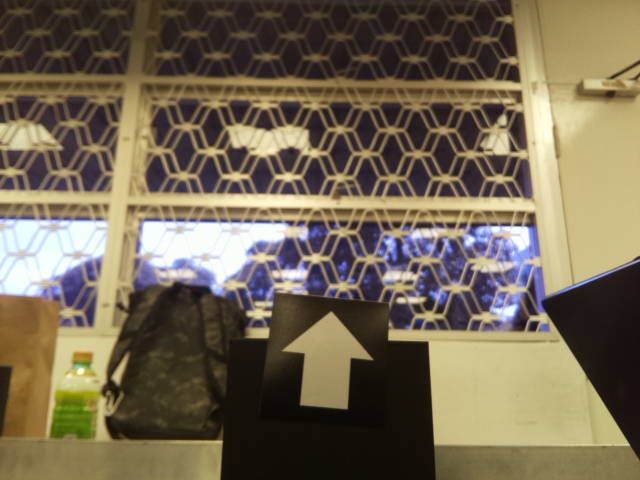up: (273, 296, 384, 429)
